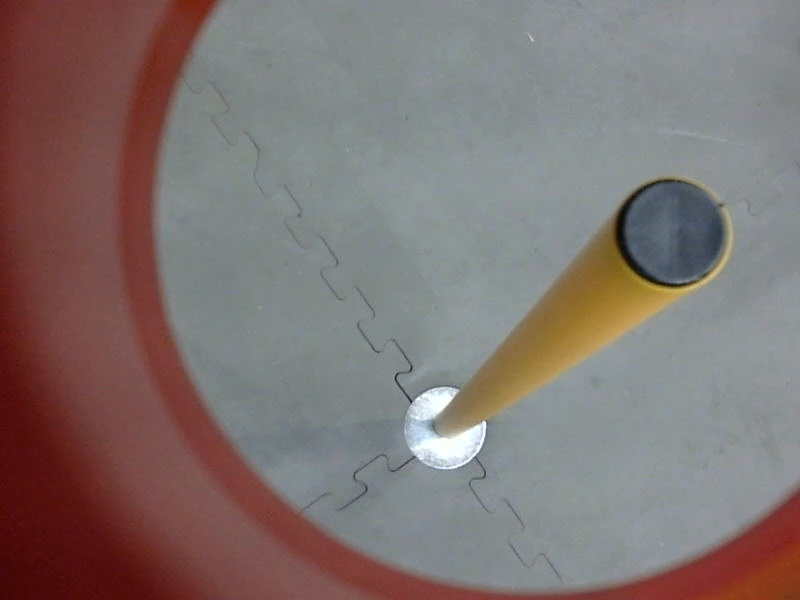tip: (609, 165, 739, 296)
